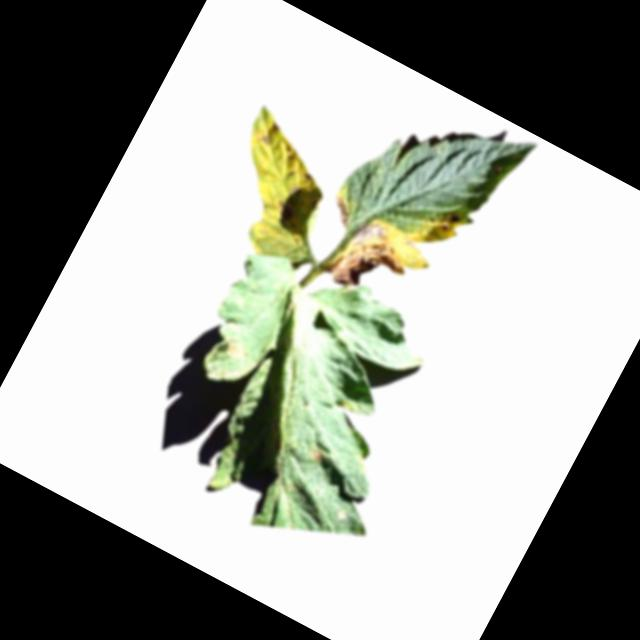Early_blight: (323, 210, 422, 313), (325, 192, 361, 229), (255, 115, 285, 151), (433, 200, 465, 230), (219, 334, 250, 361), (306, 442, 328, 465)
